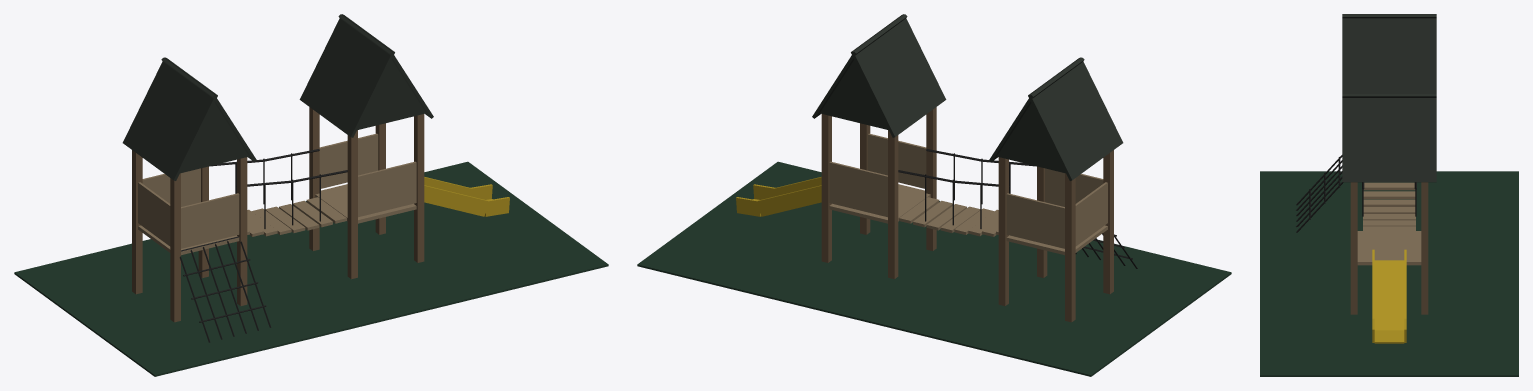
Rendered from SM_Prop_play_climber_1.glb.
3 views of the same model, side by side, from view 1: azimuth 30°, elevation 25°; view 2: azimuth 150°, elevation 25°; view 3: azimuth 270°, elevation 25° (orthographic). The views are drawn at different scales.
Visible parts, largest first — view 1: SM_Prop_play_climber_1; view 2: SM_Prop_play_climber_1; view 3: SM_Prop_play_climber_1.
Boxes of the visible parts, x1=… form: SM_Prop_play_climber_1: x1=14, y1=14, x2=608, y2=376; SM_Prop_play_climber_1: x1=637, y1=14, x2=1231, y2=376; SM_Prop_play_climber_1: x1=1260, y1=14, x2=1518, y2=376.
Size of the model in its own units: 8.2 by 3.88 by 4.4.
